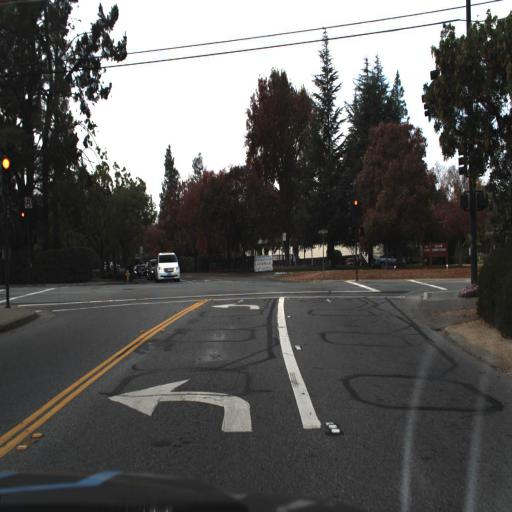car: (370, 246, 404, 270), (156, 251, 181, 283), (144, 259, 158, 280), (132, 260, 146, 278)
trafficLight-Red: (0, 136, 16, 194), (352, 196, 359, 224)
